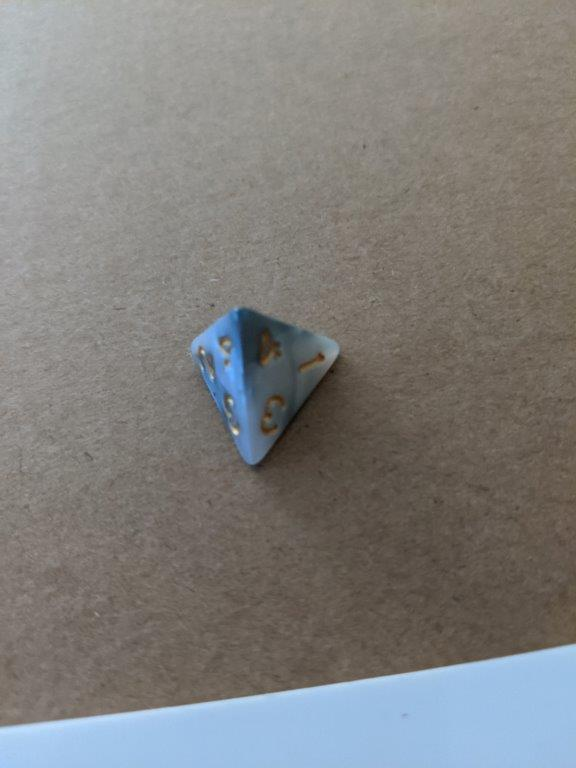d4-4: (190, 305, 342, 467)
